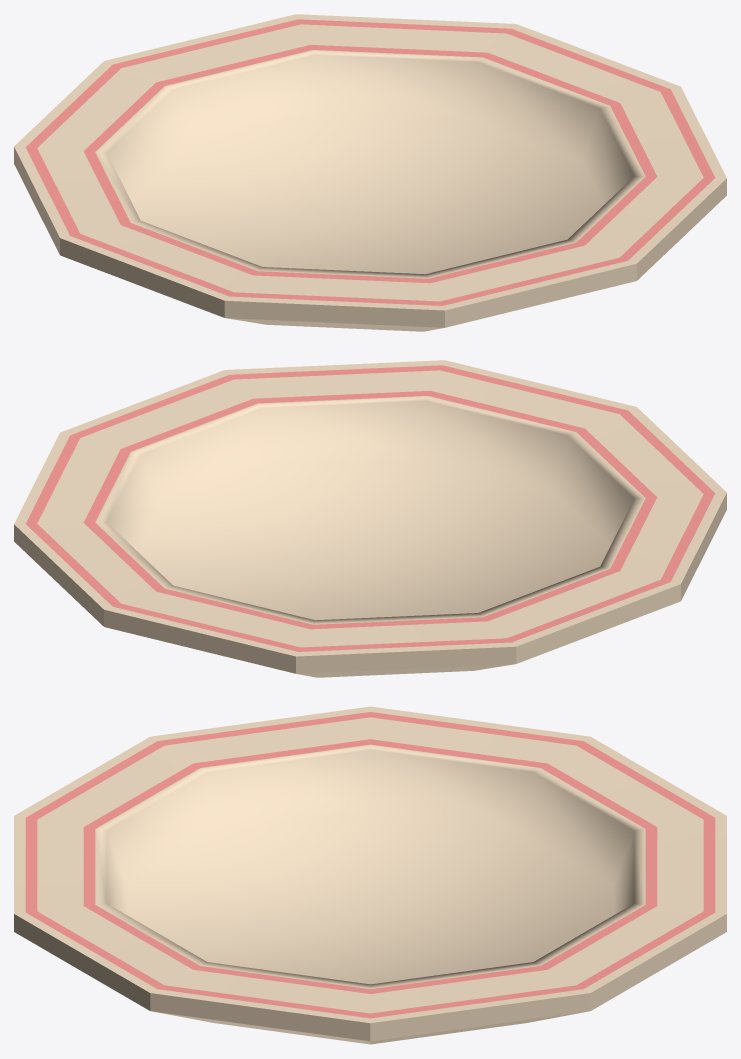
The model's file is PW_plate02.fbx.
3 views of the same model, one above another, from view 1: azimuth 30°, elevation 25°; view 2: azimuth 150°, elevation 25°; view 3: azimuth 270°, elevation 25° (orthographic). The views are drawn at different scales.
Parts seen in each view (by area): view 1: plate02; view 2: plate02; view 3: plate02.
Boxes of the visible parts, x1,y1,x2,y2 form: plate02: [14, 14, 726, 331]; plate02: [14, 360, 726, 677]; plate02: [14, 706, 726, 1044].
Size of the model in its own units: 49.93 by 4.93 by 47.49.
Materials: 1 (1 with a texture image).
